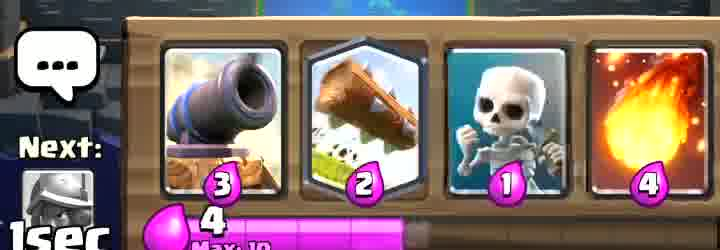cannon: (171, 51, 283, 199)
fireball: (596, 47, 710, 193)
log: (310, 44, 423, 192)
